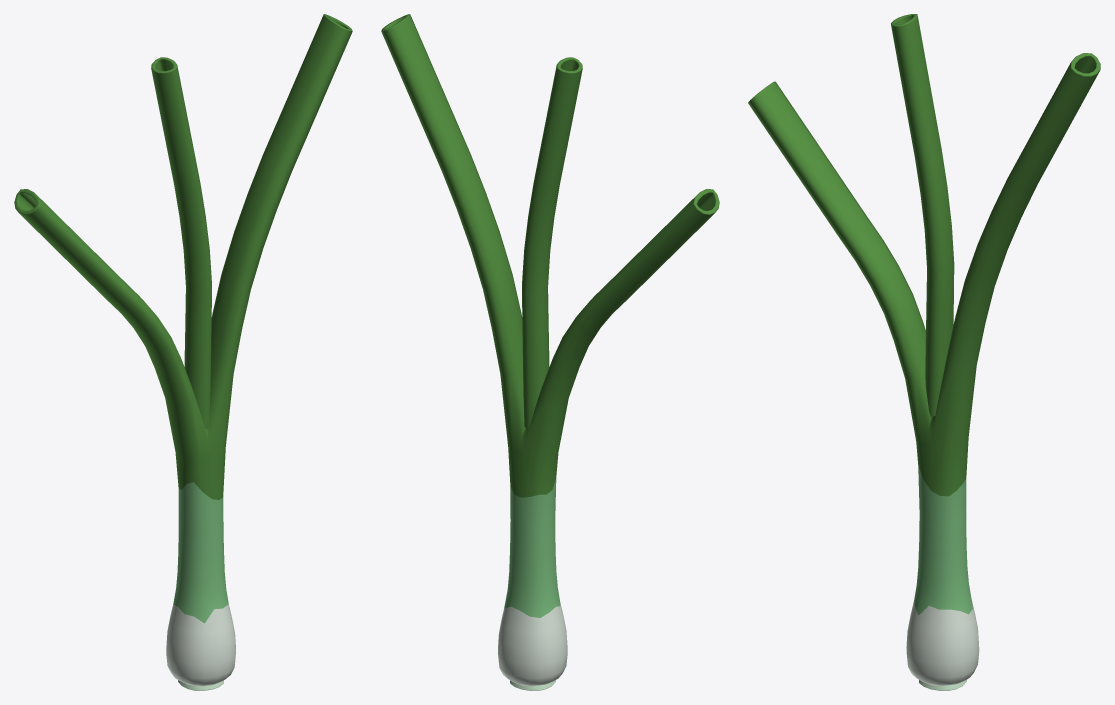
The model's file is Green_Onion.fbx.
The picture shows the model from 3 angles, left to right: view 1: azimuth 30°, elevation 25°; view 2: azimuth 150°, elevation 25°; view 3: azimuth 330°, elevation 25°; orthographic projection. The views are drawn at different scales.
Parts seen in each view (by area): view 1: Green_Onion; view 2: Green_Onion; view 3: Green_Onion.
Boxes of the visible parts, bbox=[...] form: Green_Onion: bbox=[14, 14, 352, 690]; Green_Onion: bbox=[381, 14, 719, 690]; Green_Onion: bbox=[748, 14, 1100, 690].
Bounding box in the file's own units: 31.02 × 56.65 × 5.64.
